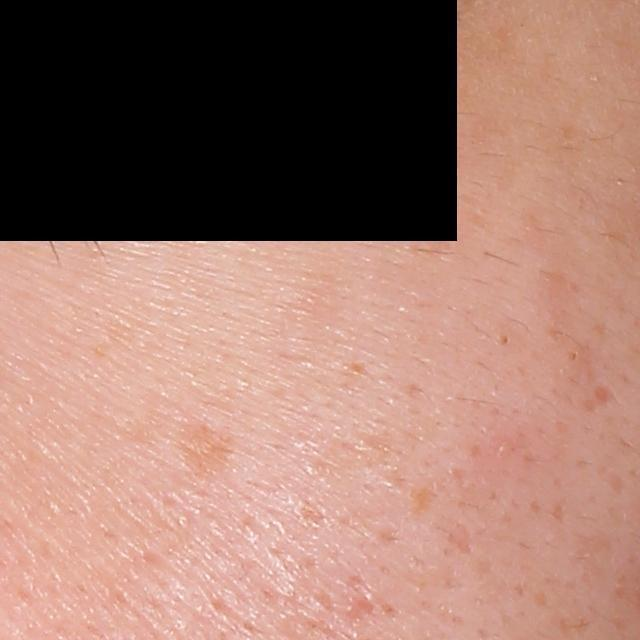atrophic_scar: (593, 383, 618, 408)
comedo: (568, 344, 582, 367), (498, 331, 512, 351)
